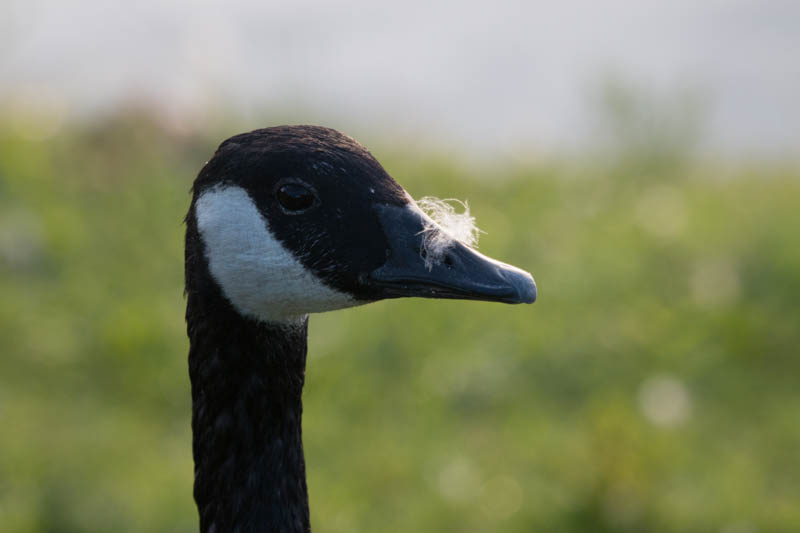goose-head: (185, 126, 537, 329)
